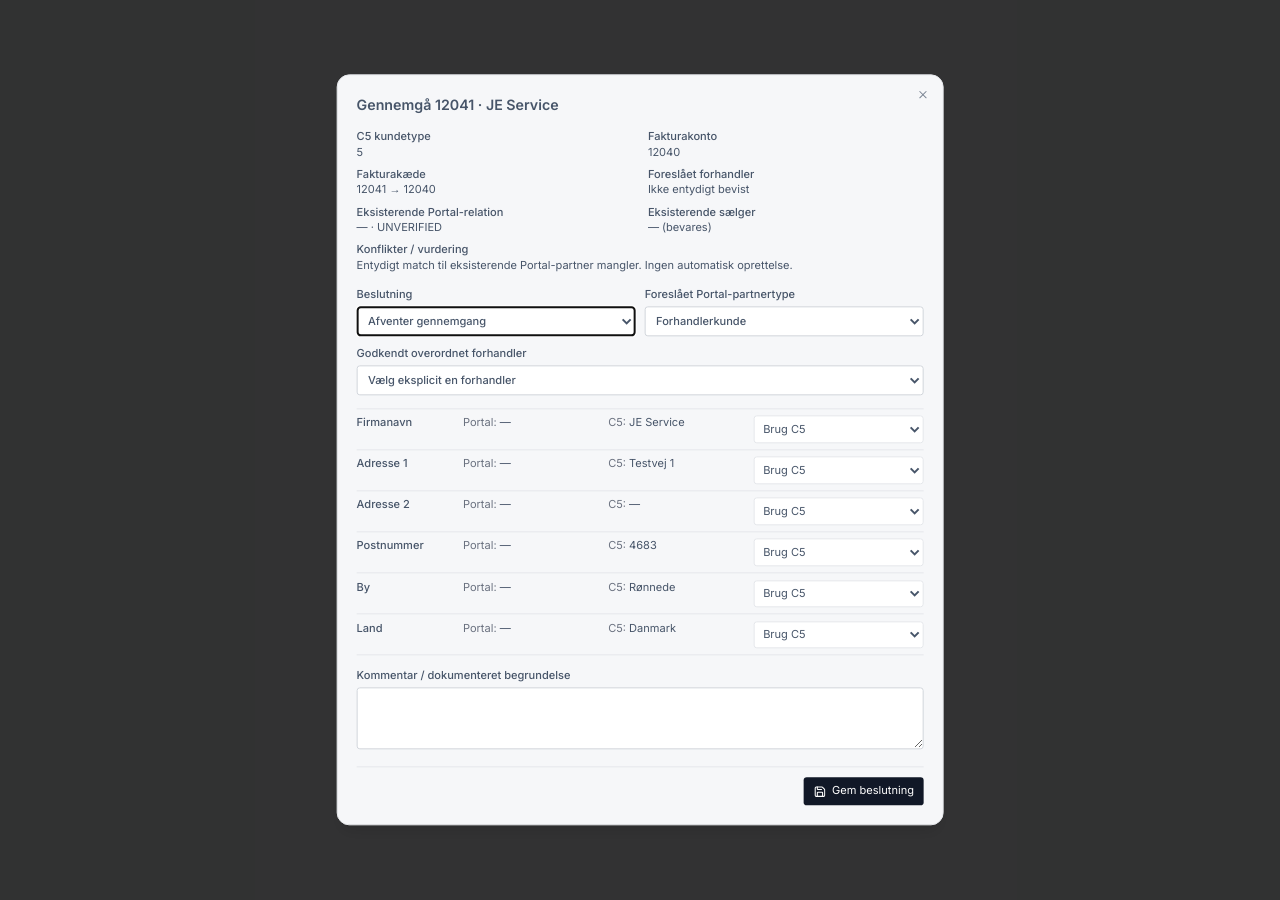
Scenario: separate Backend review decisions › keeps form on failure and reuses request ID on unchanged retry
Later steps or results of the test are not shown.
Click the button "Gem beslutning" at (864, 792), box [804, 777, 923, 806]
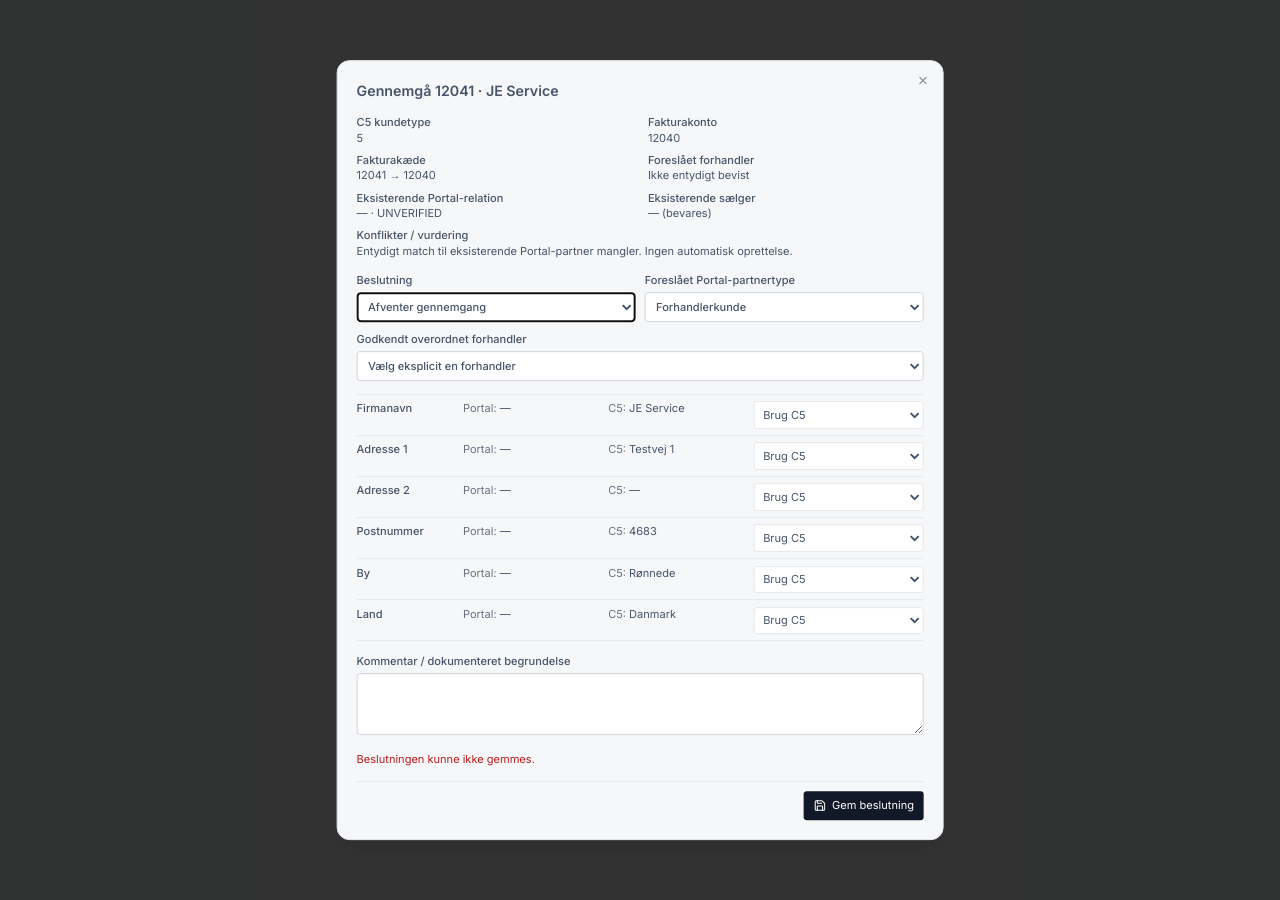
Result: the message "Beslutningen kunne ikke gemmes." is shown at [357, 753, 535, 767]
